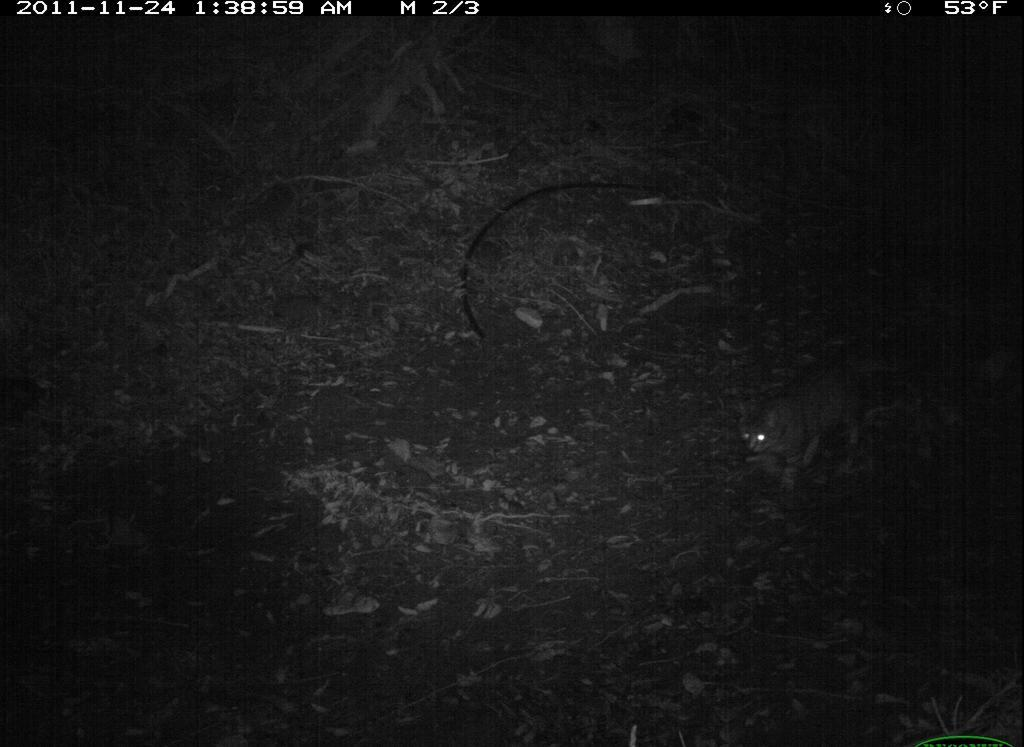cat: (730, 351, 934, 507)
